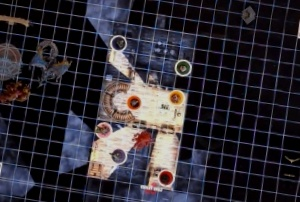blue: (108, 32, 129, 51)
green: (172, 56, 193, 77)
orange: (124, 93, 144, 111)
pink: (93, 118, 114, 140)
red: (156, 166, 176, 187)
violet: (109, 146, 130, 164)
yellow: (164, 85, 187, 105)
